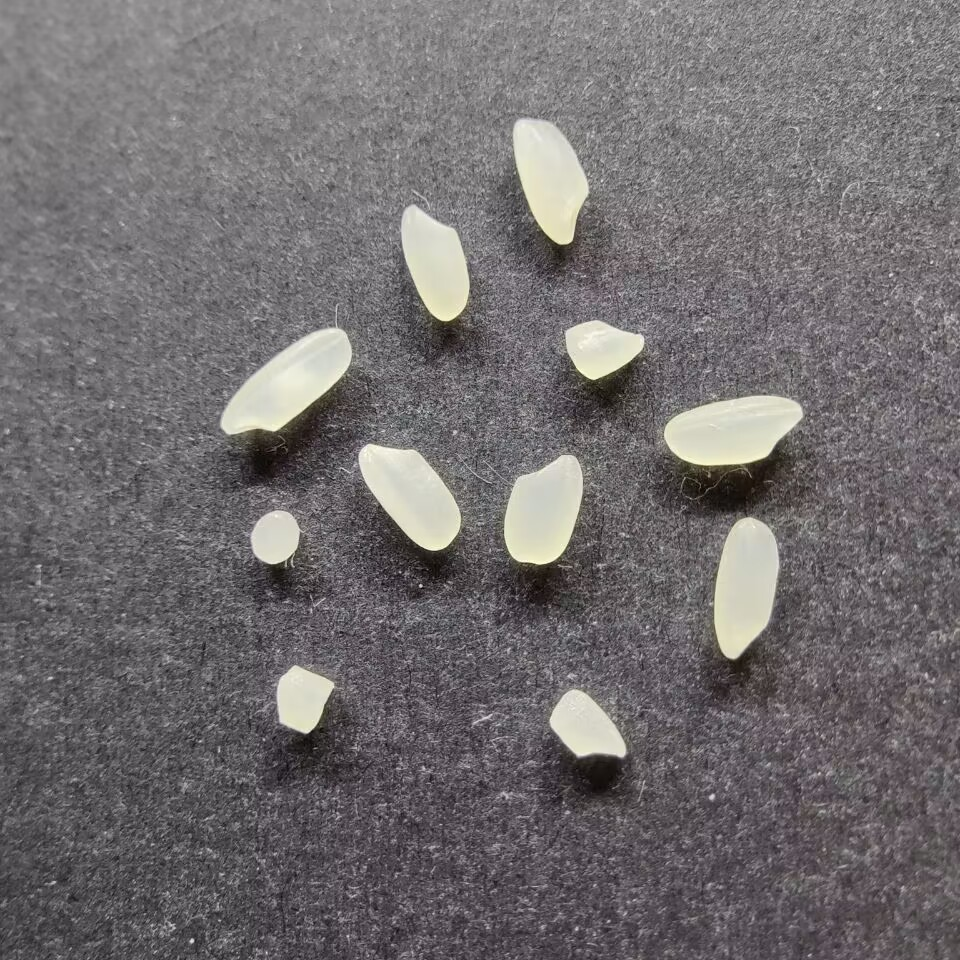broken: (548, 689, 627, 759), (563, 319, 645, 380), (275, 664, 333, 734), (249, 509, 301, 564)
rice: (219, 327, 352, 435), (357, 443, 461, 551), (663, 396, 803, 466), (511, 118, 588, 245), (712, 516, 778, 660), (503, 453, 582, 564), (400, 204, 469, 322)
